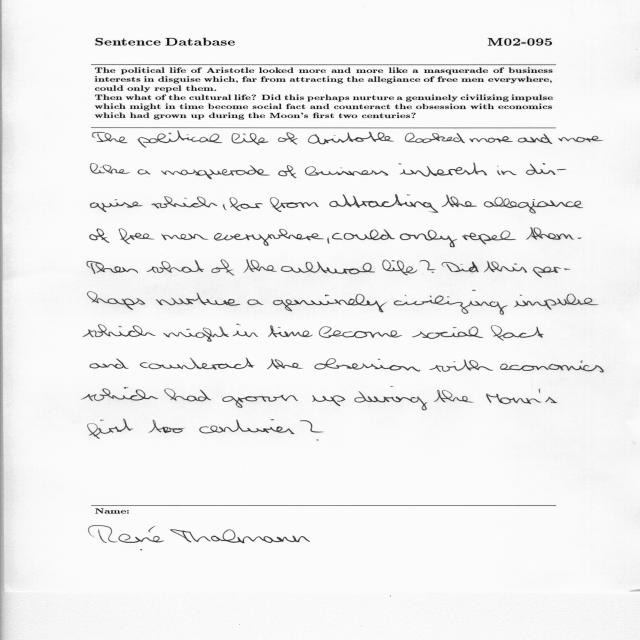word: (394, 290, 508, 315), (273, 294, 387, 312), (329, 195, 438, 213), (214, 229, 324, 246), (354, 387, 428, 411), (484, 197, 583, 213), (161, 166, 270, 180), (314, 358, 420, 372), (138, 131, 223, 148), (200, 419, 295, 434), (514, 294, 598, 310), (140, 358, 255, 369), (500, 361, 604, 373), (398, 163, 487, 176), (281, 262, 375, 274), (88, 291, 146, 310), (156, 293, 240, 306), (486, 389, 558, 404), (81, 387, 158, 401), (163, 326, 229, 342), (308, 132, 394, 144), (319, 326, 402, 338), (222, 395, 298, 408), (400, 230, 457, 247), (83, 325, 156, 338), (412, 326, 483, 339), (88, 419, 133, 439), (491, 325, 544, 341), (430, 359, 494, 372), (305, 166, 388, 176), (152, 196, 218, 208), (462, 231, 516, 245), (146, 260, 204, 273), (270, 197, 319, 212), (332, 229, 395, 240), (90, 199, 143, 212), (87, 261, 138, 274), (526, 227, 574, 240), (164, 389, 211, 402), (405, 133, 465, 143), (119, 229, 154, 245), (268, 326, 313, 338), (382, 260, 417, 275), (484, 261, 527, 273), (434, 390, 473, 403), (526, 163, 566, 175), (229, 197, 263, 211), (149, 420, 185, 433), (232, 133, 269, 145), (90, 163, 130, 174), (244, 260, 277, 273), (90, 358, 129, 369), (442, 195, 477, 207), (442, 262, 479, 273), (533, 267, 570, 278), (93, 132, 128, 143), (212, 260, 235, 276), (312, 395, 345, 406), (267, 359, 303, 369), (518, 134, 552, 144), (233, 324, 258, 337), (469, 136, 513, 143), (300, 420, 323, 433), (90, 228, 109, 243), (161, 234, 208, 240), (558, 136, 603, 142), (278, 132, 298, 145), (279, 165, 297, 178), (420, 260, 436, 273), (497, 166, 517, 175), (248, 300, 264, 306), (138, 169, 151, 175), (223, 205, 227, 210), (327, 238, 330, 244), (578, 237, 582, 239)
